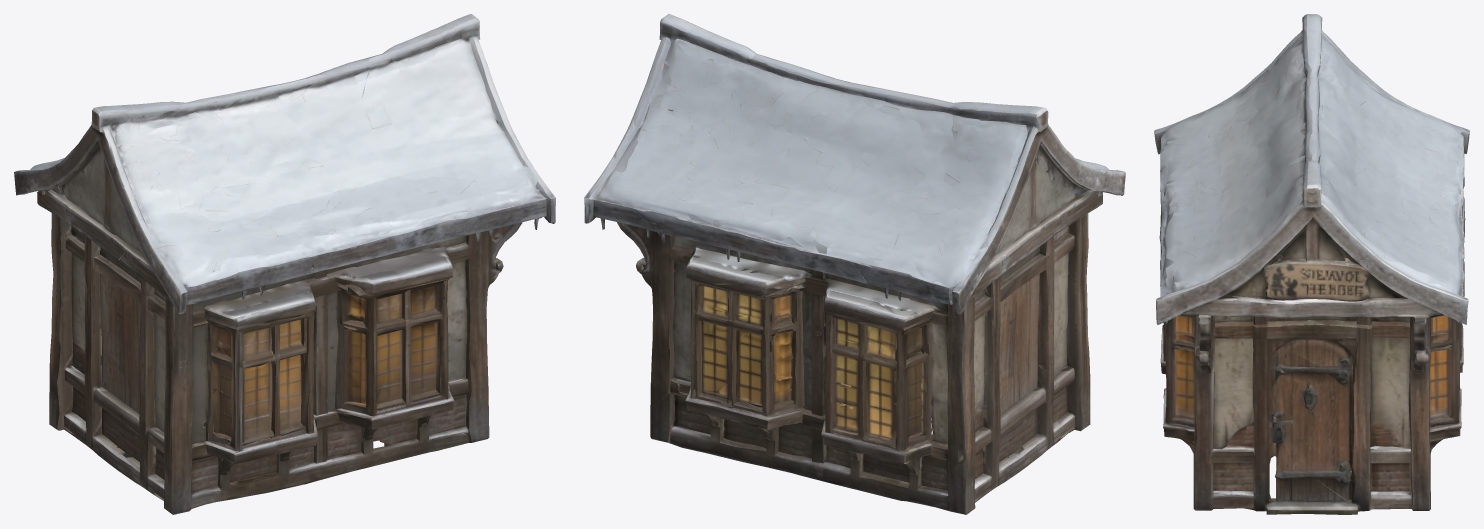
Rendered from aholo-g1-workshop.glb.
3 views of the same model, side by side, from view 1: azimuth 30°, elevation 25°; view 2: azimuth 150°, elevation 25°; view 3: azimuth 270°, elevation 25° (orthographic). The views are drawn at different scales.
Visible parts, largest first — view 1: geometry_0; view 2: geometry_0; view 3: geometry_0.
Part boxes in pixels (bbox=[...]): geometry_0: bbox=[14, 14, 555, 514]; geometry_0: bbox=[584, 14, 1125, 514]; geometry_0: bbox=[1154, 14, 1469, 514].
Bounding box in the file's own units: 2.5 × 2.32 × 1.9.
Materials: 1 (1 with a texture image).
